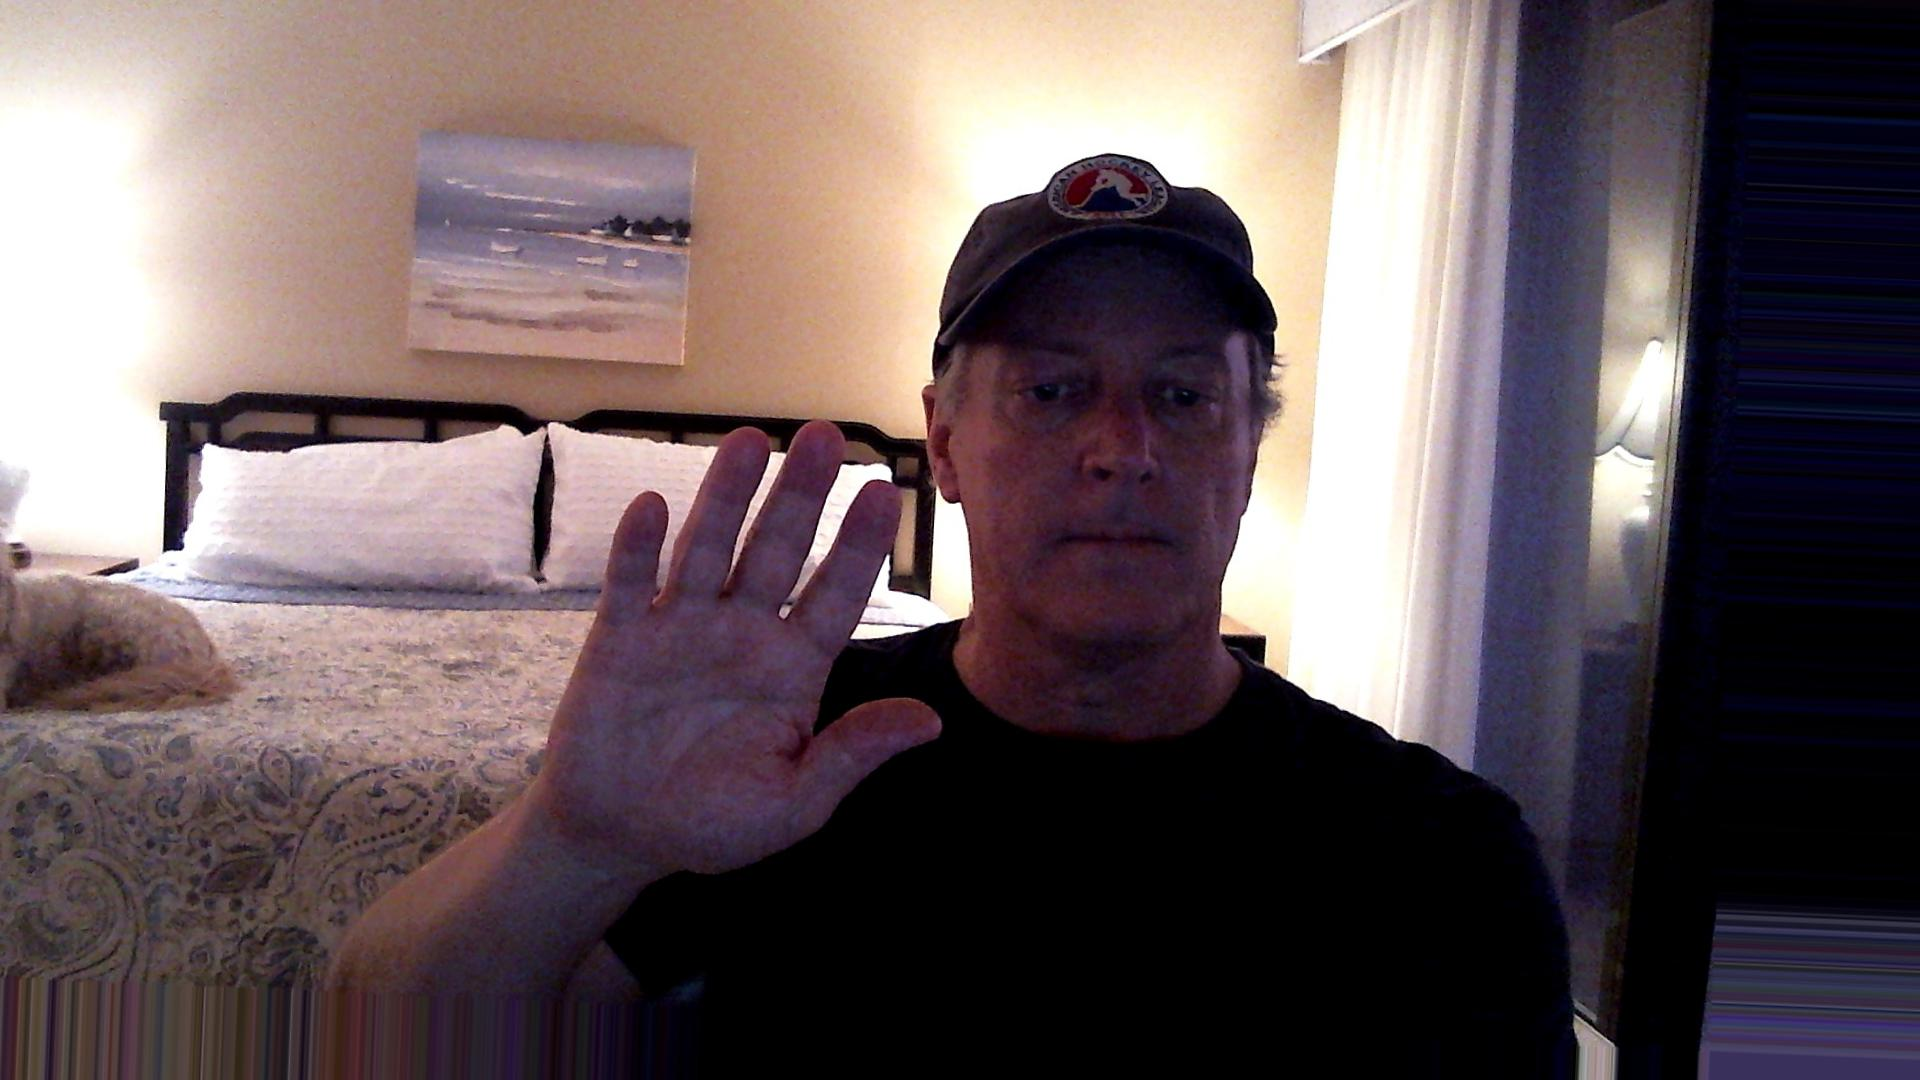Hello: (541, 411, 955, 882)
